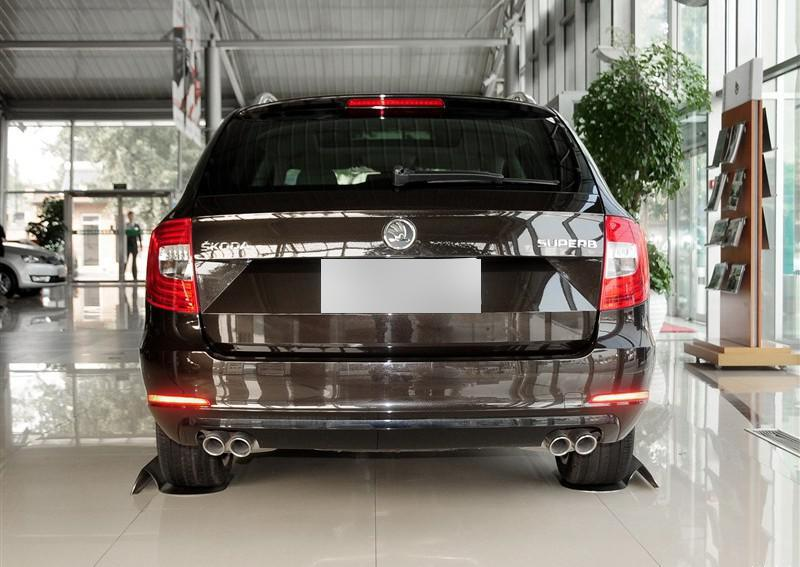Wagon: (138, 89, 654, 491)
